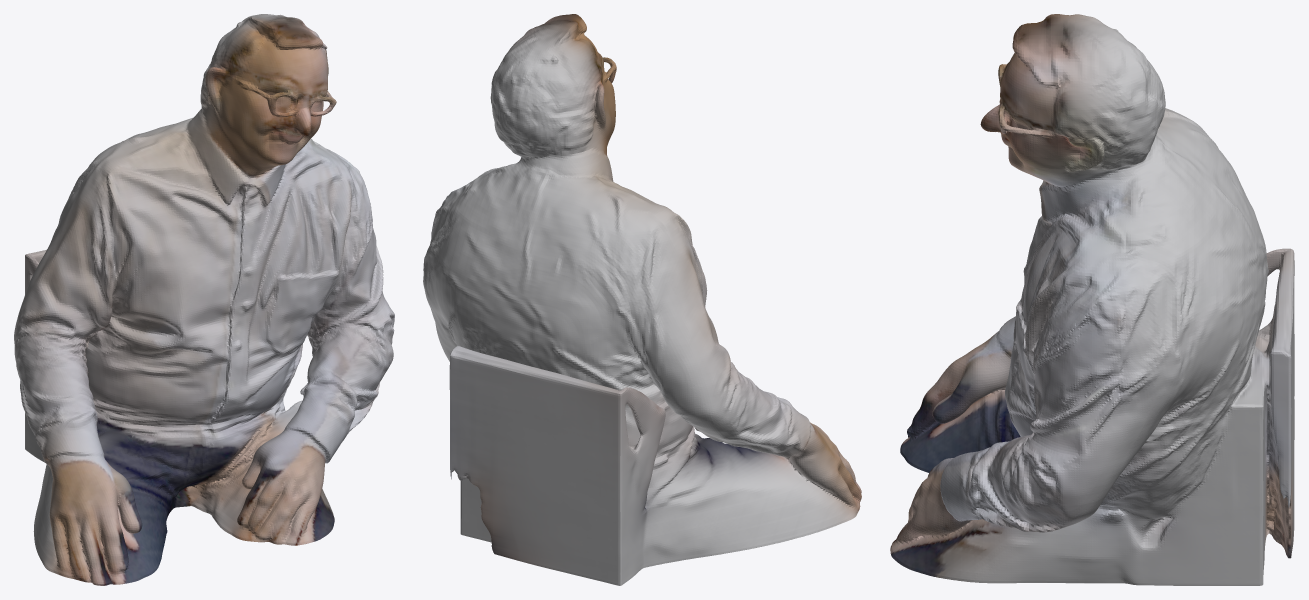
The model's file is jackson-hunyuan3d-full.glb.
The picture shows the model from 3 angles, left to right: view 1: azimuth 30°, elevation 25°; view 2: azimuth 150°, elevation 25°; view 3: azimuth 270°, elevation 25°; orthographic projection. The views are drawn at different scales.
Parts seen in each view (by area): view 1: geometry_0; view 2: geometry_0; view 3: geometry_0.
Boxes of the visible parts, left/top/right/bottom form: geometry_0: left=14, top=14, right=394, bottom=585; geometry_0: left=423, top=14, right=861, bottom=585; geometry_0: left=890, top=14, right=1294, bottom=585.
Size of the model in its own units: 1.7 by 1.99 by 1.31.
